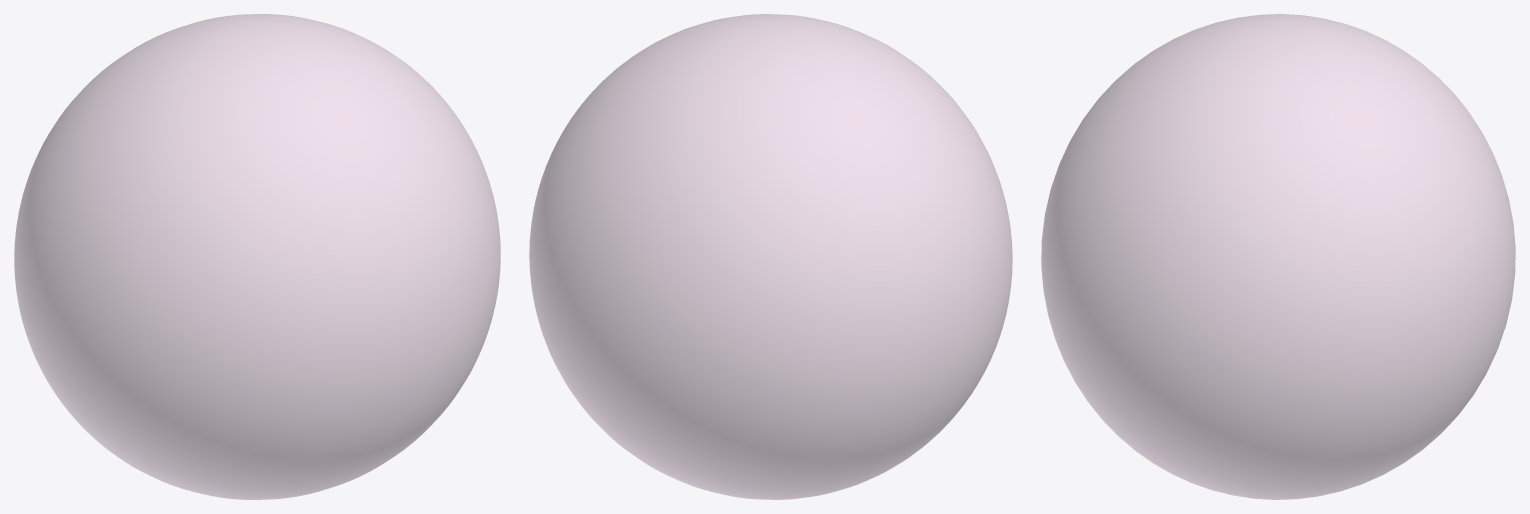
The model's file is bubble-b.gltf.
3 renders of one model, left to right at view 1: azimuth 30°, elevation 25°; view 2: azimuth 150°, elevation 25°; view 3: azimuth 270°, elevation 25°, orthographic.
Visible parts, largest first — view 1: Soap small; view 2: Soap small; view 3: Soap small.
Part boxes in pixels (left/top/right/bottom): Soap small: left=14, top=14, right=500, bottom=499; Soap small: left=529, top=14, right=1012, bottom=499; Soap small: left=1041, top=14, right=1515, bottom=499.
Bounding box in the file's own units: 3.11 × 3.11 × 3.04.
